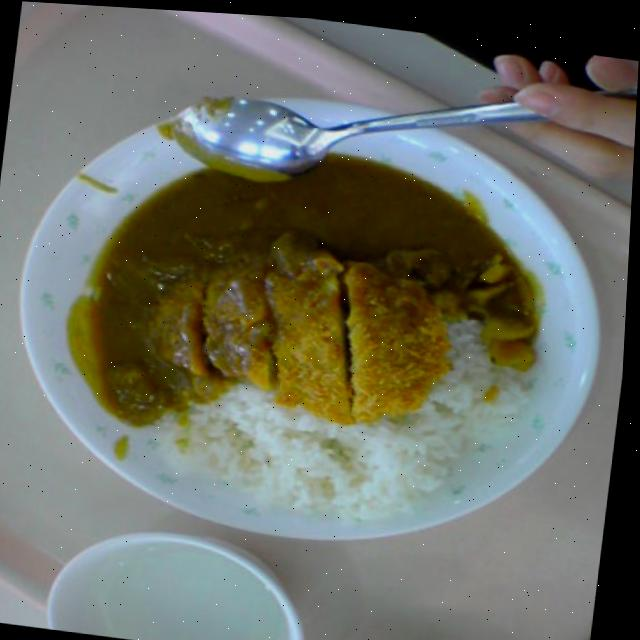猪肉菜式: (0, 64, 630, 561)
